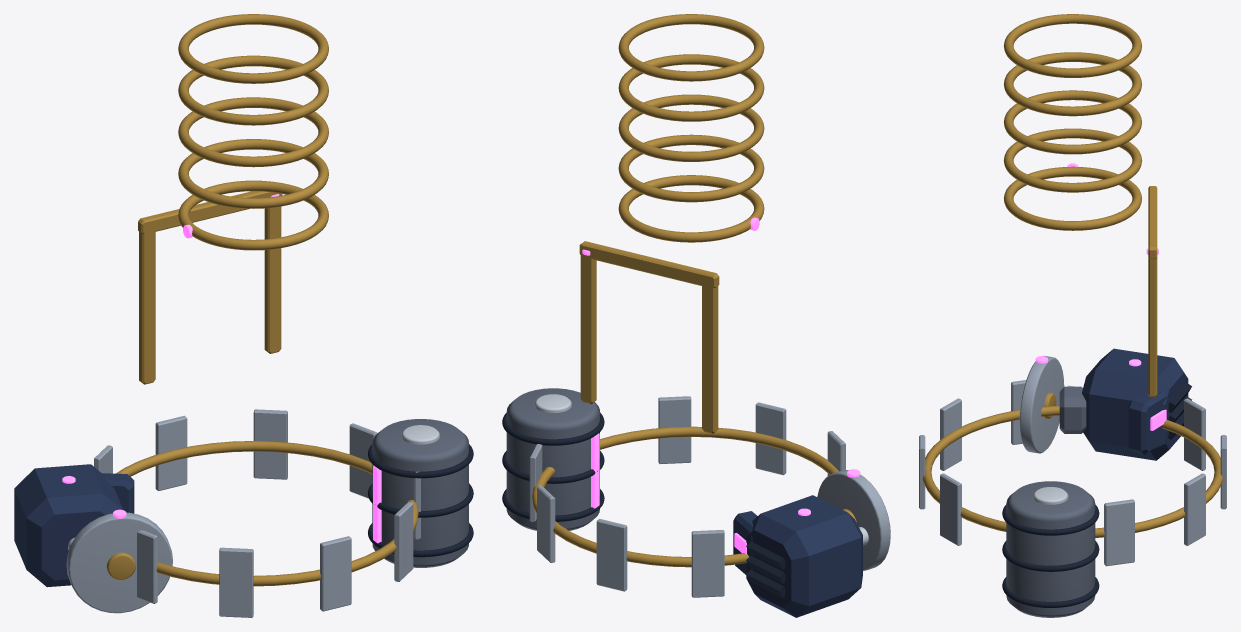
The model's file is tower_arc_rate_s9.glb.
3 renders of one model, left to right at view 1: azimuth 30°, elevation 25°; view 2: azimuth 150°, elevation 25°; view 3: azimuth 270°, elevation 25°, orthographic. The views are drawn at different scales.
Visible parts, largest first — view 1: arc_supercap, arc_generator, arc_flywheel, arc_coolant_loop, arc_winding_b4, arc_winding_b3, arc_winding_b1, arc_winding_b2, arc_winding_b0, arc_bus_bar_r, arc_base_fin8, arc_bus_bar_l (+14 smaller); view 2: arc_generator, arc_supercap, arc_coolant_loop, arc_flywheel, arc_winding_b4, arc_winding_b2, arc_winding_b3, arc_winding_b1, arc_winding_b0, arc_bus_bar_r, arc_bus_bar_l, arc_bus_bridge (+14 smaller); view 3: arc_supercap, arc_generator, arc_coolant_loop, arc_winding_b4, arc_flywheel, arc_winding_b2, arc_winding_b1, arc_winding_b3, arc_winding_b0, arc_base_fin4, arc_meter_box, arc_base_fin3 (+14 smaller).
Part boxes in pixels (left/top/right/bottom): arc_supercap: left=372, top=419, right=468, bottom=567; arc_generator: left=14, top=464, right=122, bottom=587; arc_flywheel: left=66, top=512, right=172, bottom=613; arc_coolant_loop: left=116, top=441, right=418, bottom=586; arc_winding_b4: left=178, top=14, right=328, bottom=83; arc_winding_b3: left=178, top=55, right=328, bottom=125; arc_winding_b1: left=178, top=139, right=328, bottom=208; arc_winding_b2: left=178, top=97, right=328, bottom=167; arc_winding_b0: left=178, top=180, right=328, bottom=250; arc_bus_bar_r: left=139, top=228, right=155, bottom=384; arc_base_fin8: left=219, top=547, right=253, bottom=617; arc_bus_bar_l: left=264, top=206, right=281, bottom=353; arc_generator: left=746, top=495, right=862, bottom=617; arc_supercap: left=506, top=388, right=599, bottom=530; arc_coolant_loop: left=532, top=426, right=838, bottom=567; arc_flywheel: left=817, top=469, right=890, bottom=570; arc_winding_b4: left=618, top=14, right=764, bottom=81; arc_winding_b2: left=618, top=94, right=764, bottom=161; arc_winding_b3: left=618, top=54, right=764, bottom=121; arc_winding_b1: left=618, top=134, right=764, bottom=202; arc_winding_b0: left=618, top=175, right=764, bottom=242; arc_bus_bar_r: left=702, top=283, right=718, bottom=433; arc_bus_bar_l: left=580, top=253, right=596, bottom=404; arc_bus_bridge: left=579, top=241, right=719, bottom=287; arc_supercap: left=1006, top=481, right=1095, bottom=617; arc_generator: left=1082, top=348, right=1188, bottom=460; arc_coolant_loop: left=922, top=406, right=1223, bottom=537; arc_winding_b4: left=1004, top=14, right=1141, bottom=77; arc_flywheel: left=1019, top=356, right=1064, bottom=453; arc_winding_b2: left=1004, top=90, right=1141, bottom=154; arc_winding_b1: left=1003, top=128, right=1142, bottom=192; arc_winding_b3: left=1004, top=52, right=1141, bottom=116; arc_winding_b0: left=1004, top=166, right=1141, bottom=230; arc_base_fin4: left=1104, top=499, right=1134, bottom=566; arc_meter_box: left=1128, top=392, right=1168, bottom=454; arc_base_fin3: left=1184, top=473, right=1205, bottom=545.
Size of the model in its own units: 1.92 by 2.46 by 1.39.
